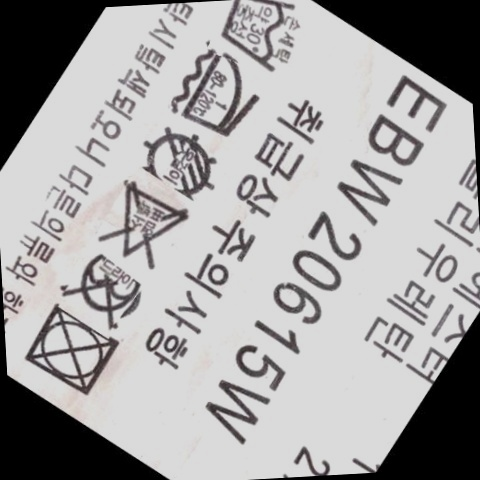DN_dry_clean: (70, 250, 146, 318)
DN_tumble_dry: (26, 304, 117, 397)
hand_wash: (223, 0, 303, 72)
iron_low: (183, 47, 256, 141)
line_dry_in_shade: (136, 123, 219, 198)
non_chlorine_bleach: (107, 186, 184, 266)
